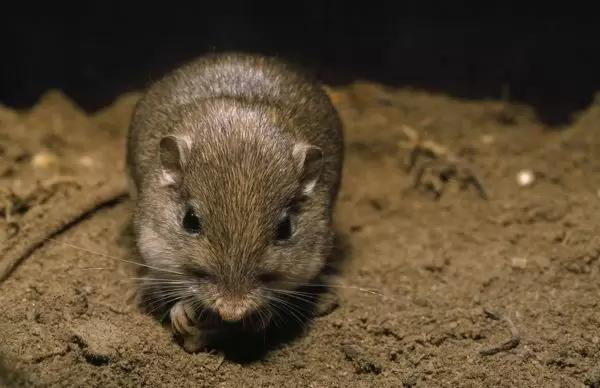rat: (127, 54, 344, 336)
